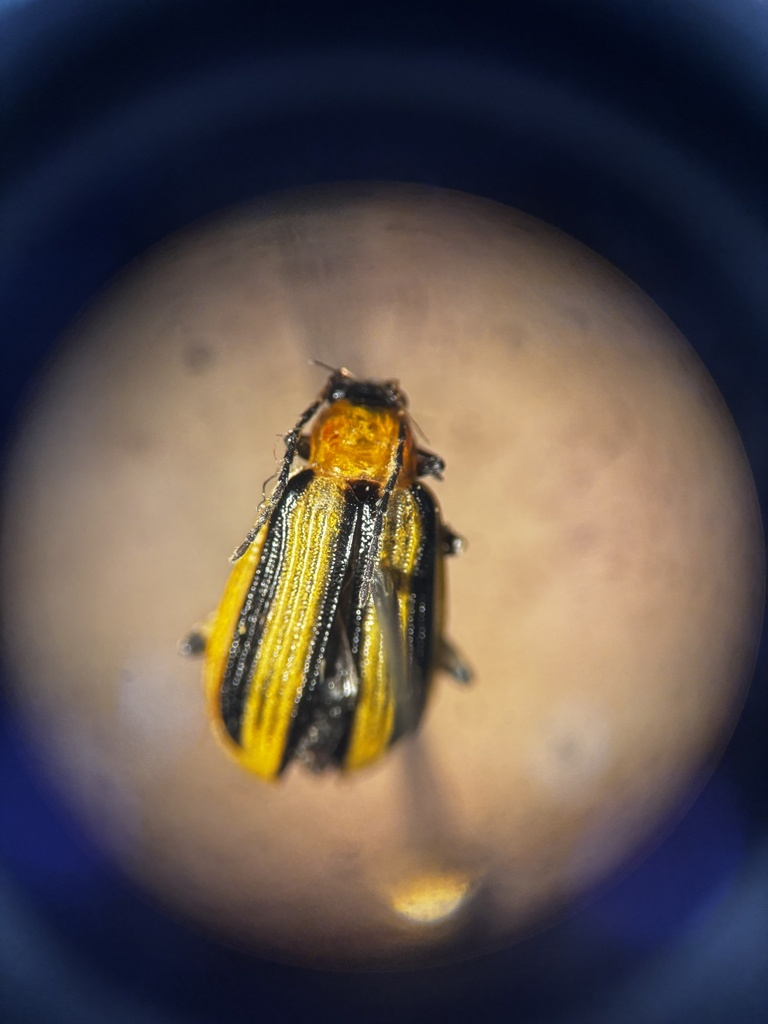potato_beetle: (48, 270, 614, 902)
